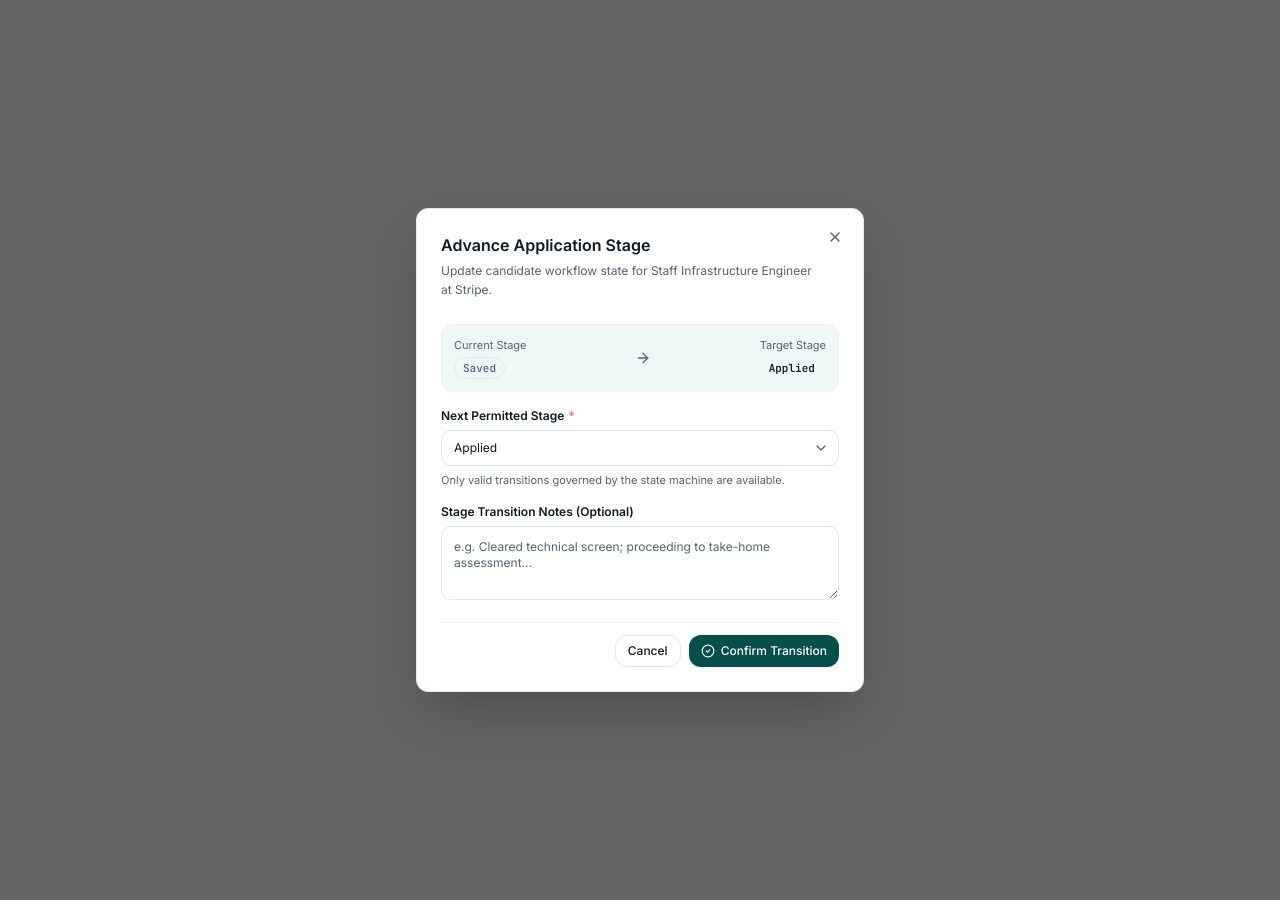
Scenario: CareerPipelinePage & Stage Machine (Phase 16E) › handles HTTP 409 conflict: refetches real server stage and shows conflict error without optimistic state
Select "applied" in the dropdown. click: (640, 448)
box: x1=441 y1=430 x2=839 y2=466
Click the button "Confirm Transition". click: (764, 651)
box: x1=689 y1=635 x2=839 y2=667
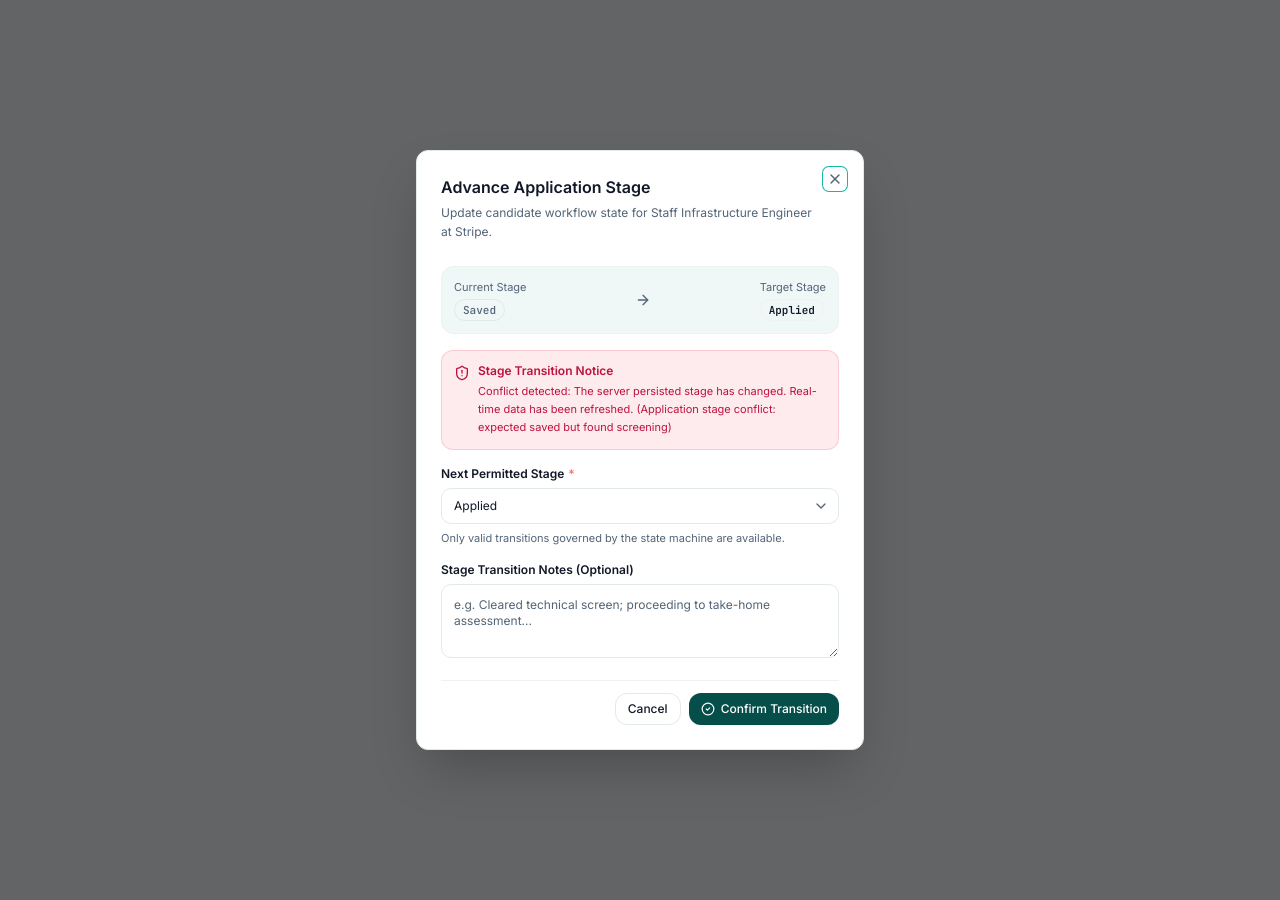
Result: the text "Stage Transition Notice" is shown at x1=478 y1=363 x2=613 y2=378
Result: the text "Conflict detected: The server persisted stage has changed" is shown at x1=478 y1=384 x2=817 y2=434
